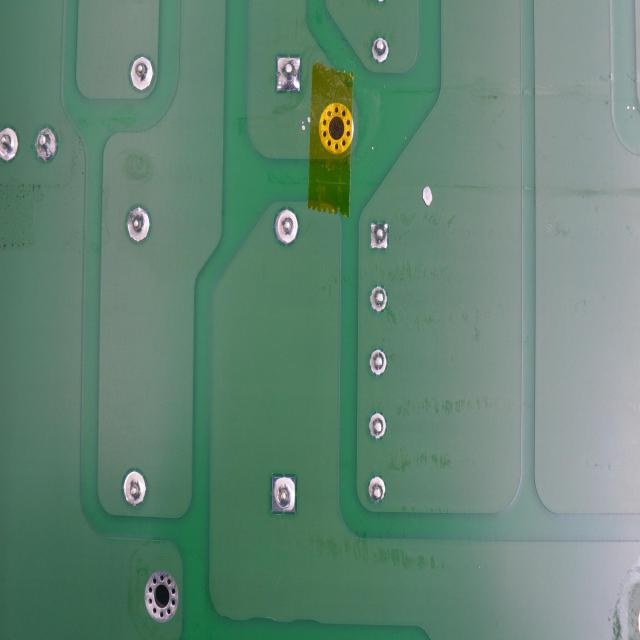spillover: (420, 183, 437, 210), (301, 113, 311, 133)
